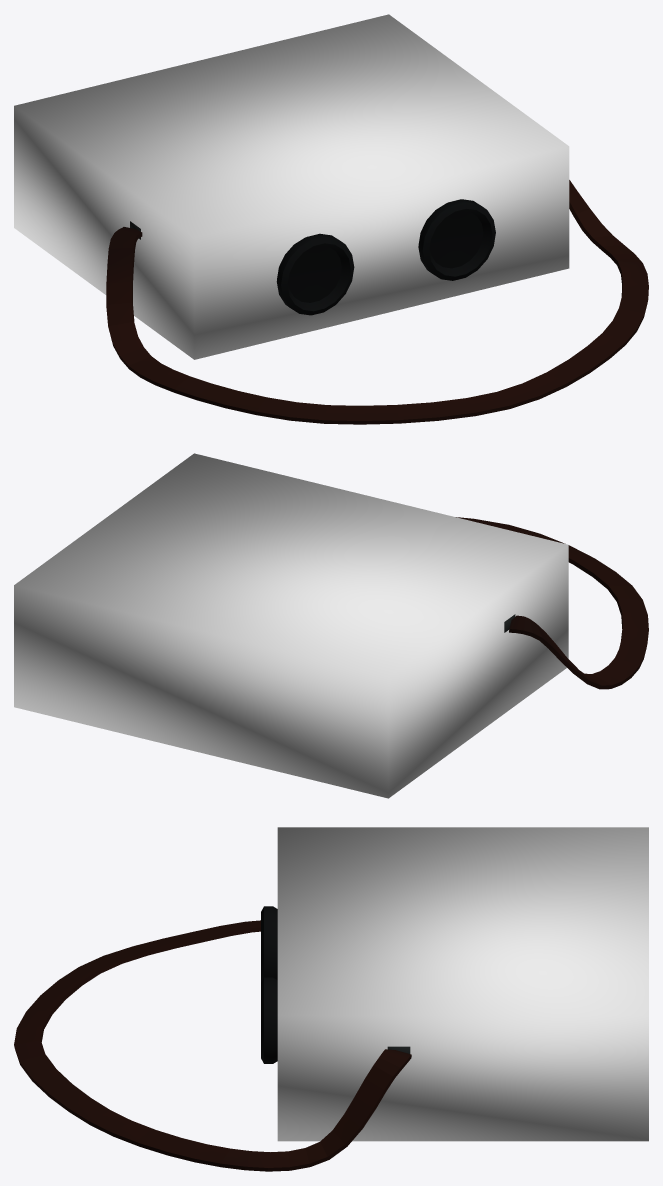
Rendered from prismaticos.glb.
3 renders of one model, top to bottom at view 1: azimuth 30°, elevation 25°; view 2: azimuth 150°, elevation 25°; view 3: azimuth 270°, elevation 25°, orthographic. The views are drawn at different scales.
Parts seen in each view (by area): view 1: prismaticos-colcaja, correa, cuerpo, lentes; view 2: prismaticos-colcaja, correa; view 3: prismaticos-colcaja, correa, cuerpo.
Boxes of the visible parts, x1=… form: prismaticos-colcaja: x1=14, y1=14, x2=569, y2=359; correa: x1=106, y1=180, x2=648, y2=424; cuerpo: x1=130, y1=199, x2=495, y2=315; lentes: x1=288, y1=210, x2=483, y2=302; prismaticos-colcaja: x1=14, y1=453, x2=568, y2=798; correa: x1=456, y1=517, x2=648, y2=689; prismaticos-colcaja: x1=277, y1=827, x2=648, y2=1141; correa: x1=14, y1=920, x2=411, y2=1171; cuerpo: x1=261, y1=906, x2=410, y2=1063.
Size of the model in its own units: 0.2379 by 0.0569 by 0.2566.
